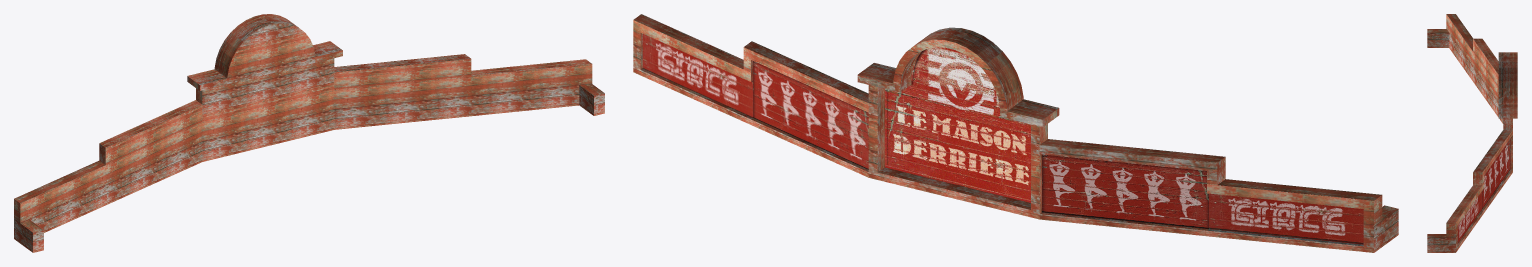
The model's file is redroof1.fbx.
3 renders of one model, left to right at view 1: azimuth 30°, elevation 25°; view 2: azimuth 150°, elevation 25°; view 3: azimuth 270°, elevation 25°, orthographic. The views are drawn at different scales.
Visible parts, largest first — view 1: redroof1; view 2: redroof1; view 3: redroof1.
Boxes of the visible parts, x1,y1,x2,y2 form: redroof1: [14, 14, 604, 252]; redroof1: [633, 14, 1398, 252]; redroof1: [1427, 14, 1517, 252].
Bounding box in the file's own units: 166400 × 34400 × 30400.
